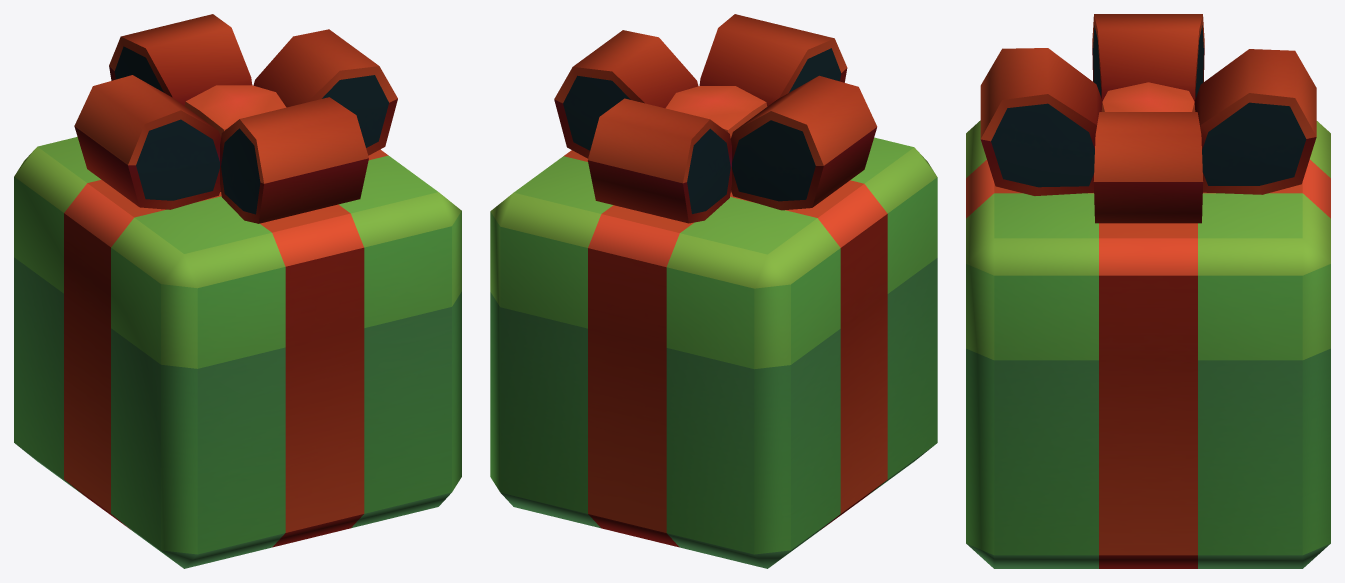
File: presi_square_4_green.fbx
3 views of the same model, side by side, from view 1: azimuth 30°, elevation 25°; view 2: azimuth 150°, elevation 25°; view 3: azimuth 270°, elevation 25° (orthographic). The views are drawn at different scales.
Visible parts, largest first — view 1: presi_square_4_green; view 2: presi_square_4_green; view 3: presi_square_4_green.
Part boxes in pixels (box(x1,y1,x2,y2)): presi_square_4_green: box(14, 14, 461, 568); presi_square_4_green: box(490, 14, 937, 568); presi_square_4_green: box(966, 14, 1330, 568).
Size of the model in its own units: 75 by 98 by 75.
Materials: 1 (1 with a texture image).
